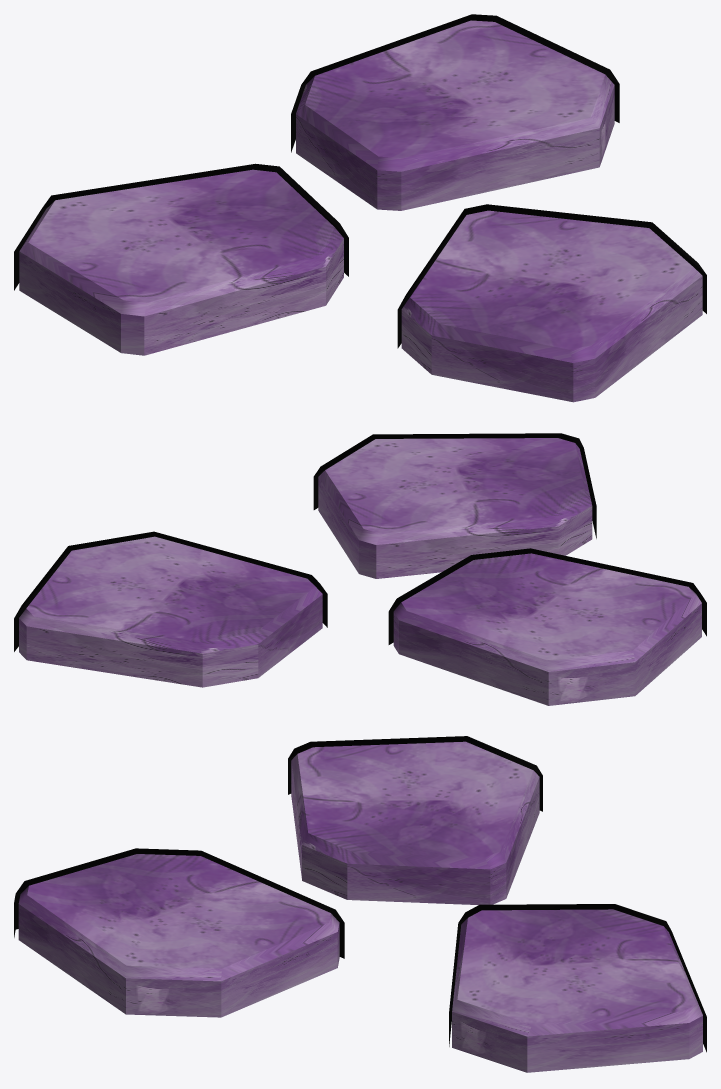
File: s0_Path_03__1__01.glb
3 views of the same model, one above another, from view 1: azimuth 30°, elevation 25°; view 2: azimuth 150°, elevation 25°; view 3: azimuth 270°, elevation 25° (orthographic). The views are drawn at different scales.
Parts seen in each view (by area): view 1: node_Path_03 (1); view 2: node_Path_03 (1); view 3: node_Path_03 (1).
Boxes of the visible parts, bbox=[...] form: node_Path_03 (1): bbox=[14, 14, 706, 402]; node_Path_03 (1): bbox=[14, 433, 706, 705]; node_Path_03 (1): bbox=[14, 736, 706, 1072].
Bounding box in the file's own units: 1.88 × 0.1729 × 1.93.
Materials: 2 (1 with a texture image).
